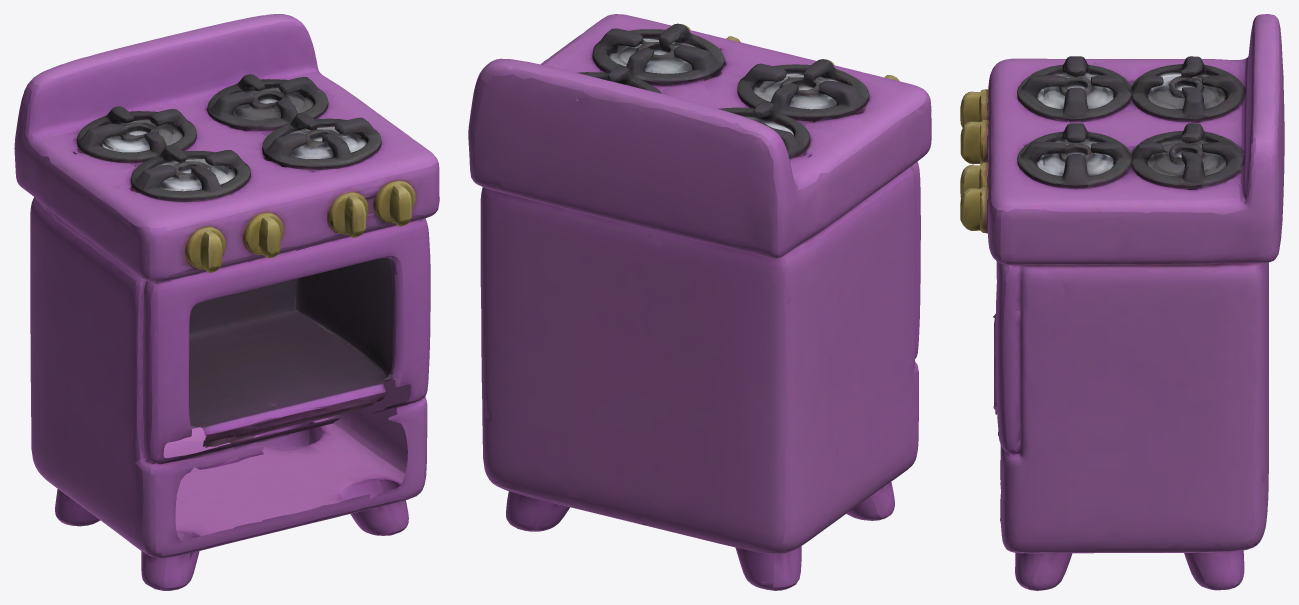
The picture shows the model from 3 angles, left to right: view 1: azimuth 30°, elevation 25°; view 2: azimuth 150°, elevation 25°; view 3: azimuth 270°, elevation 25°; orthographic projection. The views are drawn at different scales.
Visible parts, largest first — view 1: geometry_0; view 2: geometry_0; view 3: geometry_0.
Part boxes in pixels (x1,y1,x2,y2): geometry_0: (14, 14, 439, 590); geometry_0: (468, 14, 931, 590); geometry_0: (960, 14, 1284, 590).
Bounding box in the file's own units: 0.2835 × 0.4 × 0.2563.
Materials: 1 (1 with a texture image).
